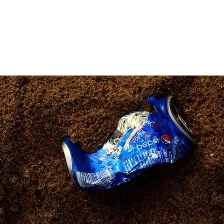can: (56, 89, 199, 195)
